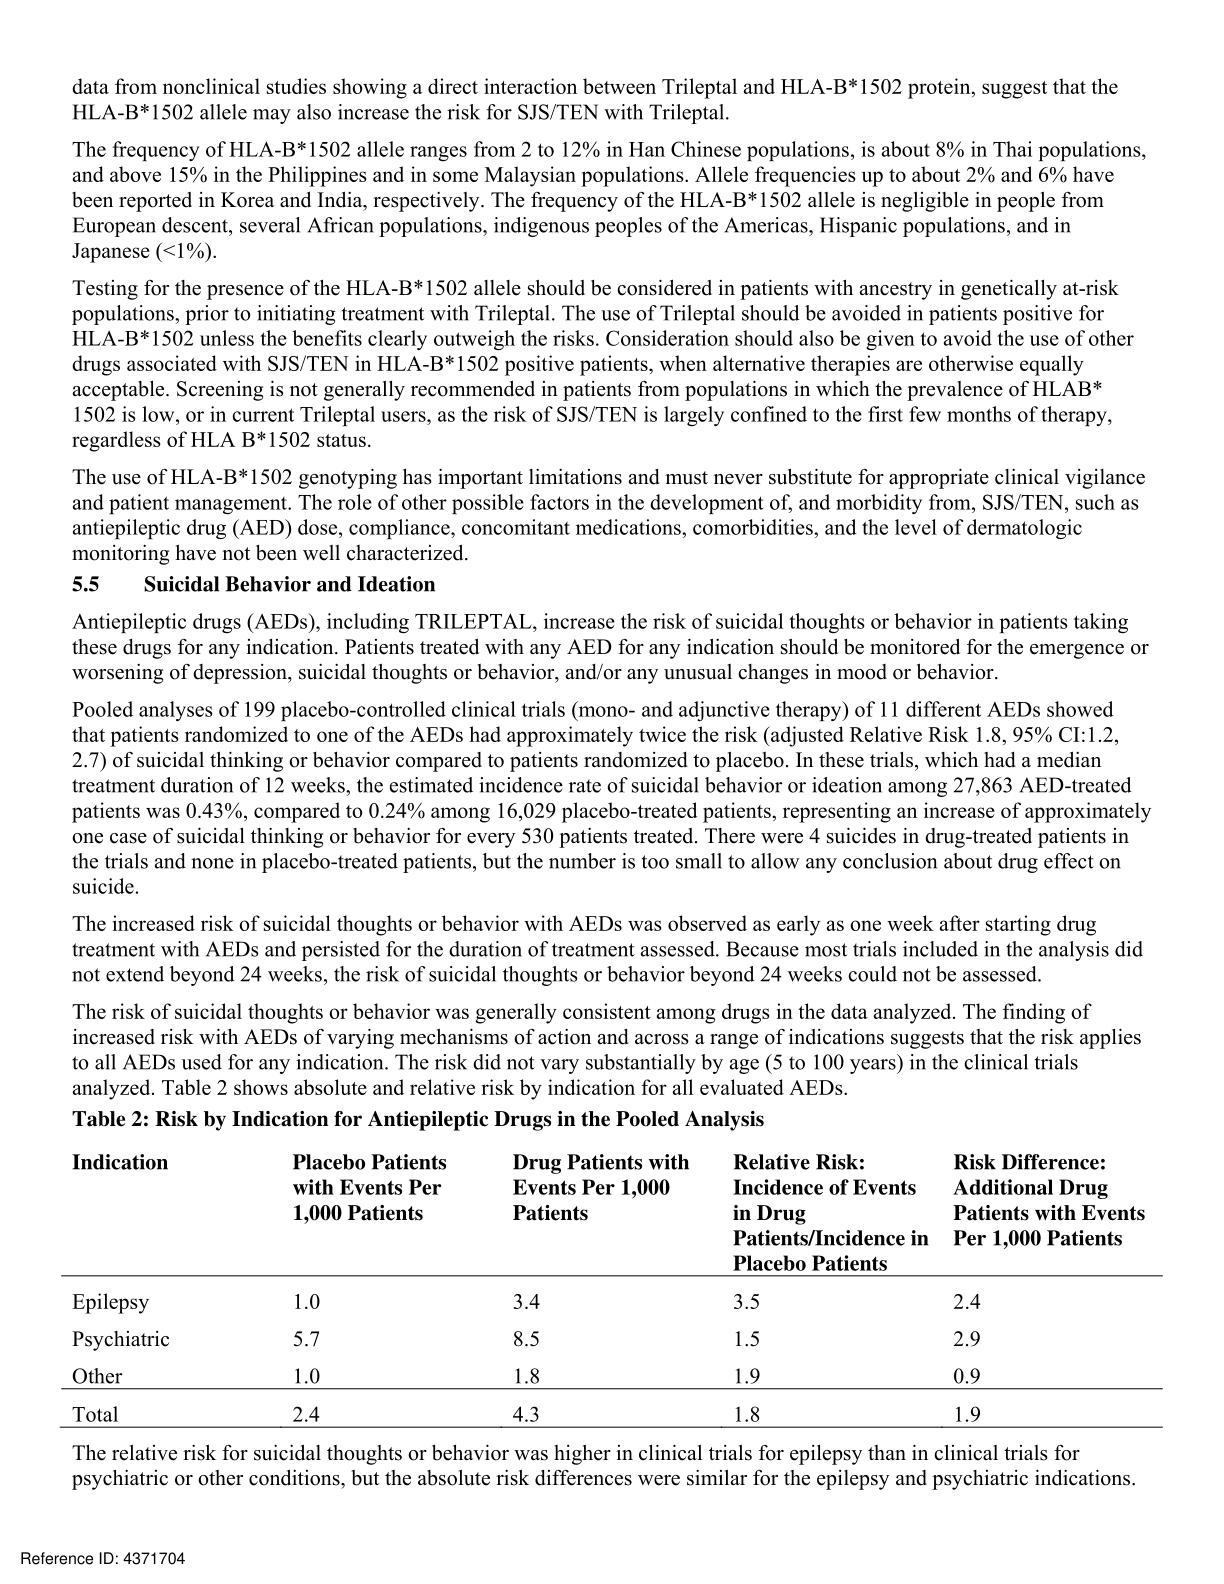partial_lined: (60, 1146, 1164, 1428)
